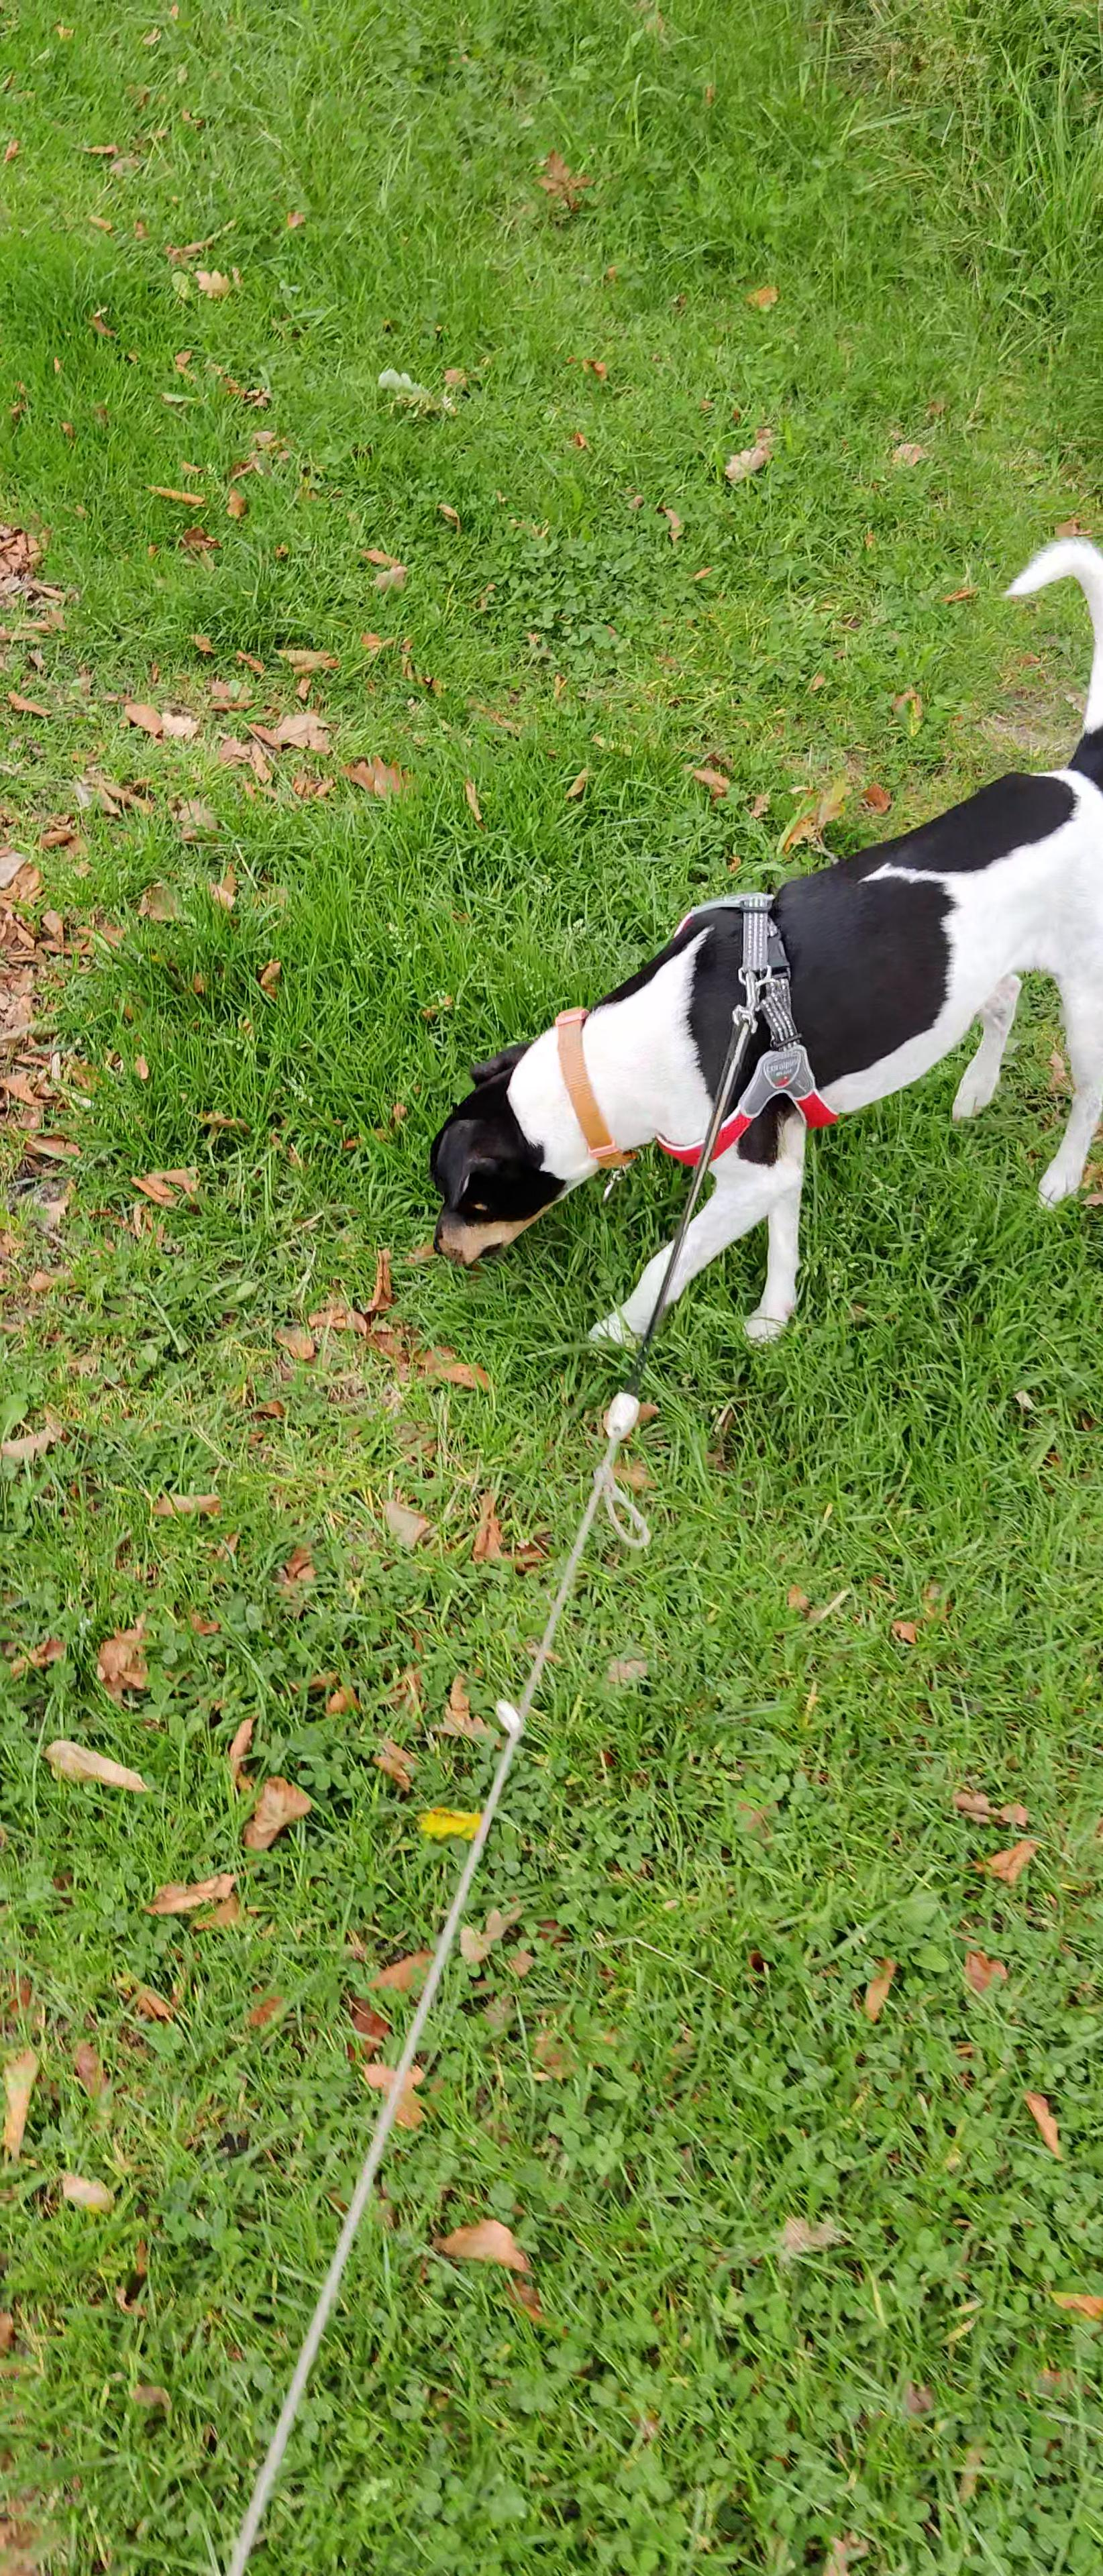Dog: (419, 526, 1103, 1360)
